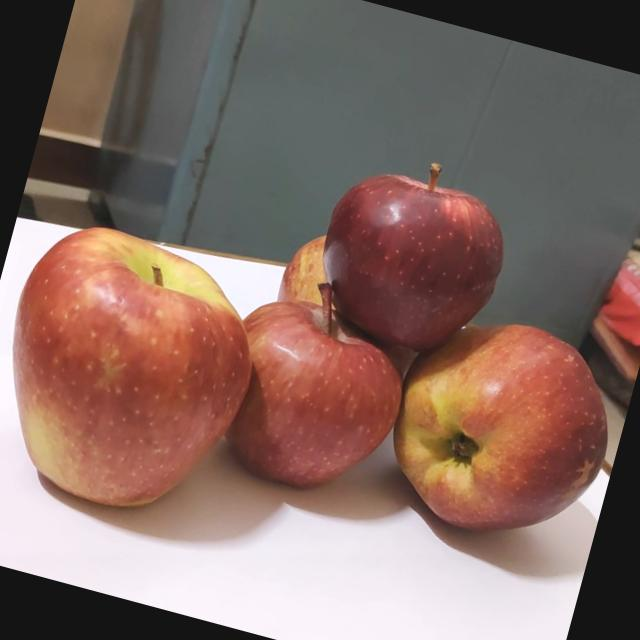apple: (0, 210, 276, 546), (367, 294, 632, 562), (198, 260, 426, 516), (294, 138, 522, 372), (266, 224, 358, 334)
